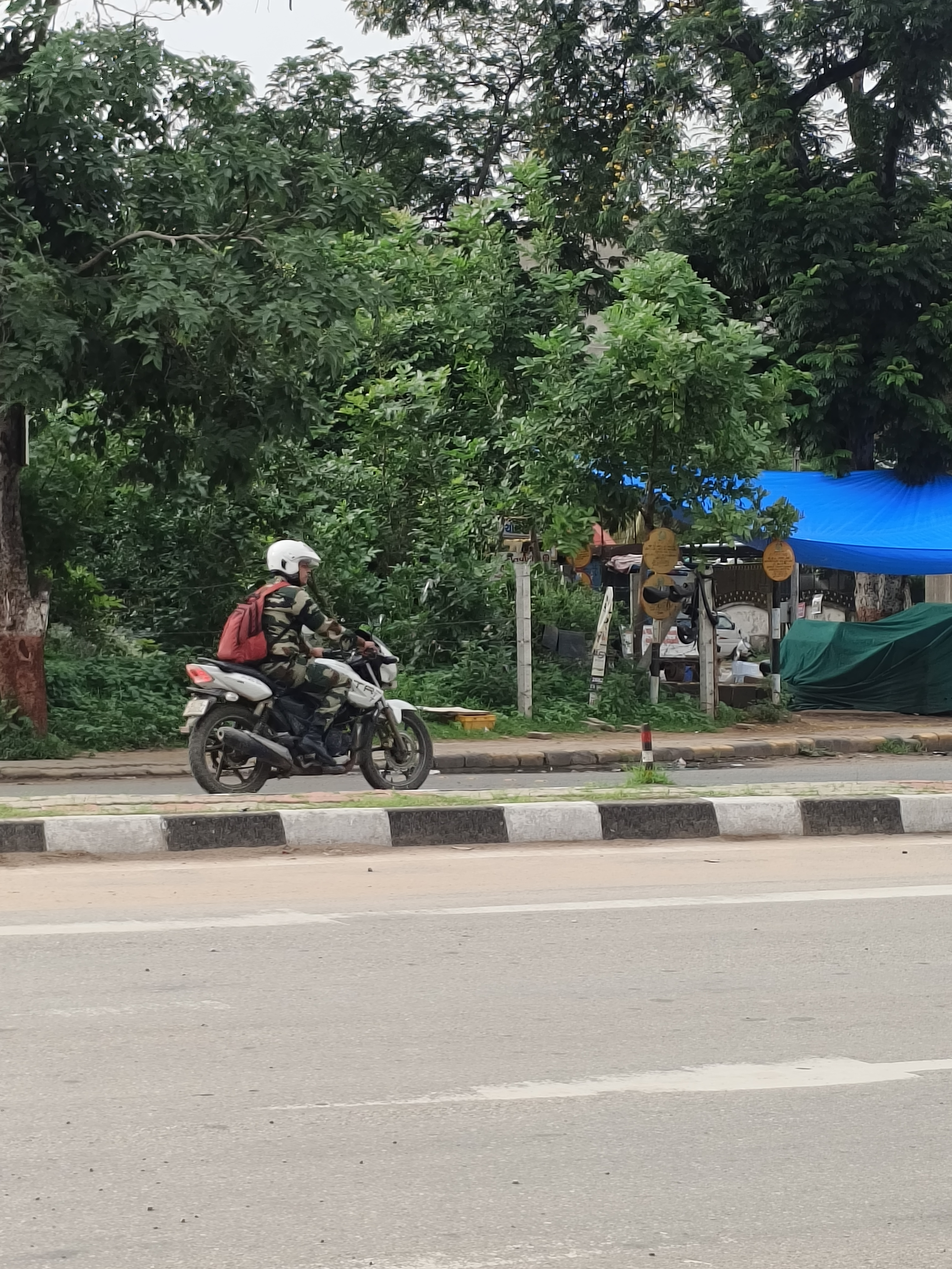BikeWithRider: (172, 532, 436, 796)
Helmet: (259, 534, 324, 585)
